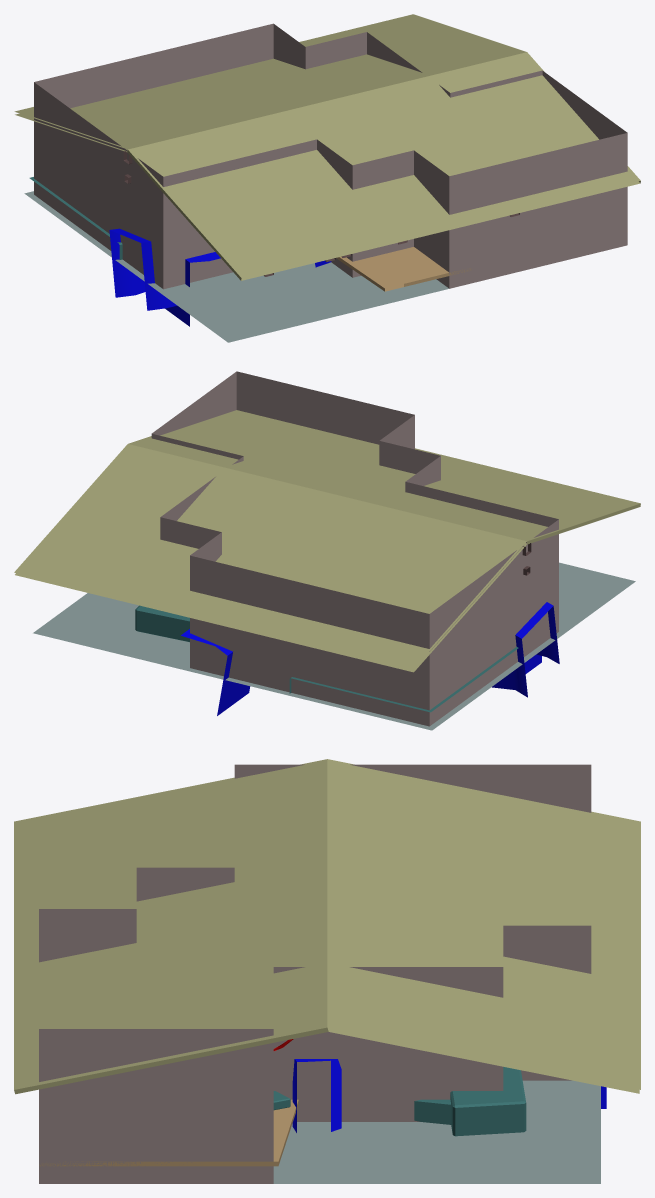
File: NIVEL_1 (1).fbx
3 renders of one model, top to bottom at view 1: azimuth 30°, elevation 25°; view 2: azimuth 150°, elevation 25°; view 3: azimuth 270°, elevation 25°, orthographic. The views are drawn at different scales.
Visible parts, largest first — view 1: Nivel_Tuto; view 2: Nivel_Tuto; view 3: Nivel_Tuto.
Boxes of the visible parts, bbox=[...] form: Nivel_Tuto: bbox=[14, 14, 640, 342]; Nivel_Tuto: bbox=[14, 371, 640, 730]; Nivel_Tuto: bbox=[14, 759, 640, 1183].
Size of the model in its own units: 13.21 by 4.83 by 12.83.
